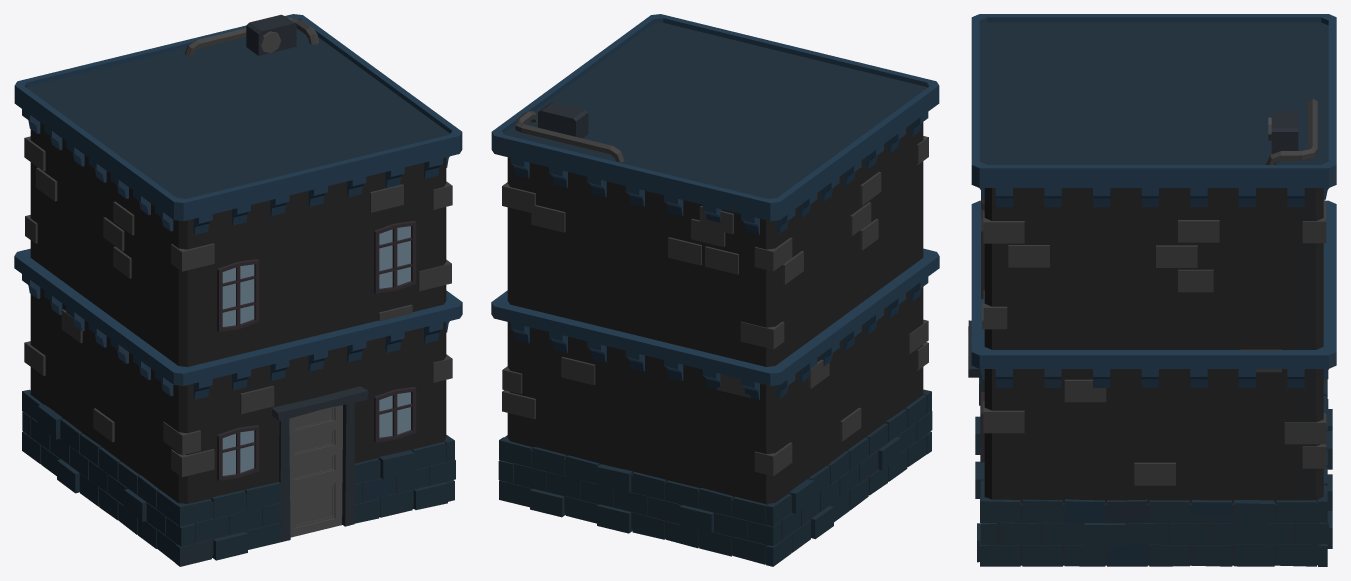
The model's file is 2Story 2.glb.
3 views of the same model, side by side, from view 1: azimuth 30°, elevation 25°; view 2: azimuth 150°, elevation 25°; view 3: azimuth 270°, elevation 25° (orthographic). The views are drawn at different scales.
Parts seen in each view (by area): view 1: 2Story_2; view 2: 2Story_2; view 3: 2Story_2.
Part boxes in pixels (x1,y1,x2,y2): 2Story_2: (14, 14, 462, 566); 2Story_2: (491, 14, 939, 566); 2Story_2: (968, 14, 1336, 566).
Bounding box in the file's own units: 5.18 × 6.63 × 5.22.
1 material, 1 textured.
